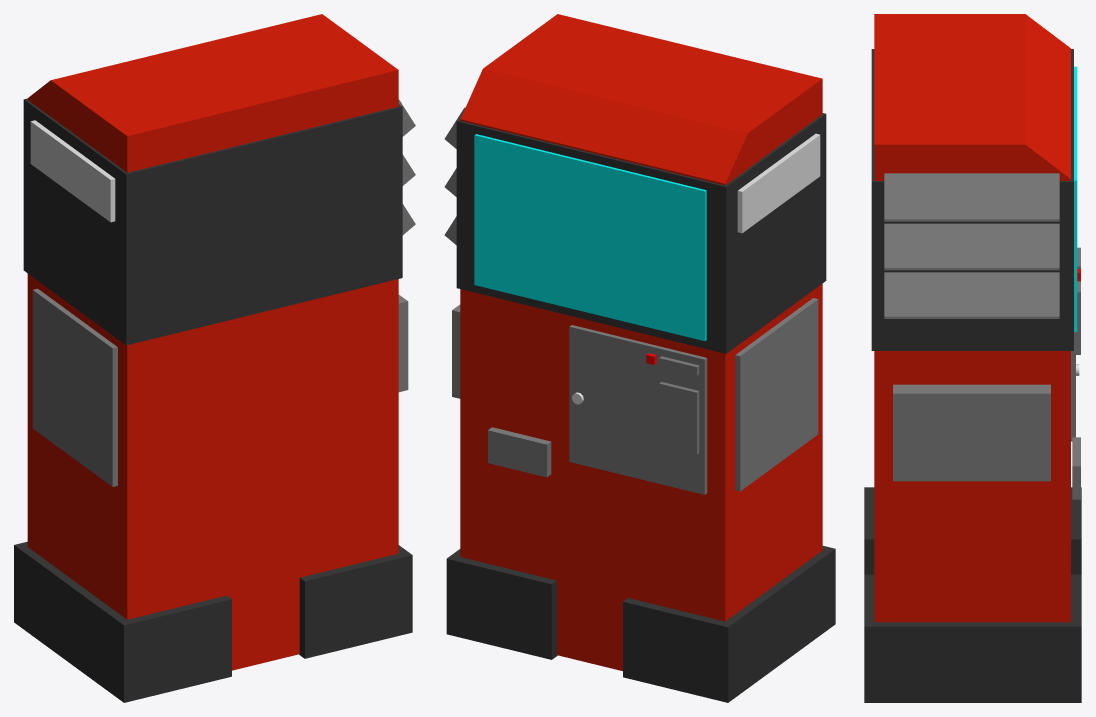
File: Shop_1.fbx
3 views of the same model, side by side, from view 1: azimuth 30°, elevation 25°; view 2: azimuth 150°, elevation 25°; view 3: azimuth 270°, elevation 25° (orthographic). The views are drawn at different scales.
Visible parts, largest first — view 1: Box026, Box033, Box040, Box032, Box039, Box034, Box038; view 2: Box026, Box027, Box033, Box040, Box028, Box032, Box039, Box034, Box029, Box041, Box038; view 3: Box026, Box039, Box038, Box033, Box035, Box036, Box037, Box040, Box027, Box041, Box028.
Boxes of the visible parts, x1=… form: Box026: x1=27, y1=14, x2=398, y2=670; Box033: x1=23, y1=98, x2=402, y2=345; Box040: x1=14, y1=541, x2=231, y2=702; Box032: x1=32, y1=288, x2=117, y2=486; Box039: x1=299, y1=545, x2=412, y2=658; Box034: x1=30, y1=120, x2=115, y2=222; Box038: x1=398, y1=294, x2=408, y2=392; Box026: x1=460, y1=14, x2=822, y2=670; Box027: x1=474, y1=134, x2=706, y2=340; Box033: x1=456, y1=113, x2=826, y2=353; Box040: x1=623, y1=546, x2=835, y2=702; Box028: x1=569, y1=325, x2=707, y2=494; Box032: x1=735, y1=298, x2=818, y2=491; Box039: x1=446, y1=549, x2=557, y2=659; Box034: x1=737, y1=133, x2=820, y2=233; Box029: x1=659, y1=382, x2=699, y2=454; Box041: x1=488, y1=427, x2=551, y2=477; Box038: x1=452, y1=304, x2=460, y2=398; Box026: x1=874, y1=14, x2=1070, y2=622; Box039: x1=864, y1=574, x2=1081, y2=702; Box038: x1=893, y1=384, x2=1050, y2=481; Box033: x1=871, y1=49, x2=1073, y2=350; Box035: x1=884, y1=173, x2=1059, y2=221; Box036: x1=884, y1=223, x2=1059, y2=270; Box037: x1=884, y1=272, x2=1059, y2=318; Box040: x1=864, y1=487, x2=1081, y2=574; Box027: x1=1074, y1=66, x2=1077, y2=331; Box041: x1=1072, y1=437, x2=1080, y2=499; Box028: x1=1071, y1=332, x2=1075, y2=441.
Bounding box in the file's own units: 1193 × 754 × 2119.
